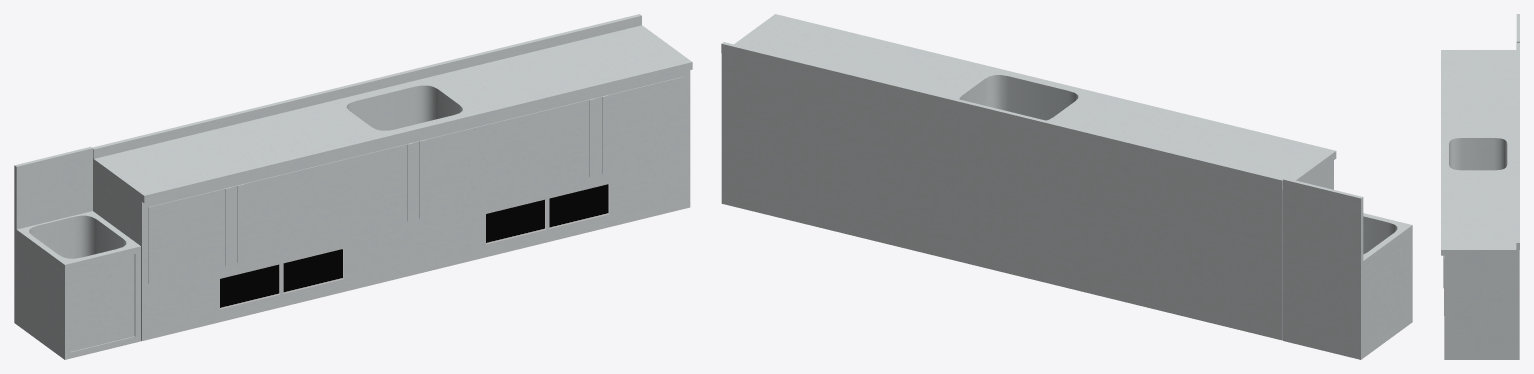
The model's file is SM_解剖房_桌子_01.fbx.
The picture shows the model from 3 angles, left to right: view 1: azimuth 30°, elevation 25°; view 2: azimuth 150°, elevation 25°; view 3: azimuth 270°, elevation 25°; orthographic projection. The views are drawn at different scales.
Parts seen in each view (by area): view 1: SM_解剖房_桌子_01; view 2: SM_解剖房_桌子_01; view 3: SM_解剖房_桌子_01.
Boxes of the visible parts, bbox=[...] form: SM_解剖房_桌子_01: bbox=[14, 14, 692, 359]; SM_解剖房_桌子_01: bbox=[721, 14, 1412, 359]; SM_解剖房_桌子_01: bbox=[1441, 14, 1519, 359].
Size of the model in its own units: 3442 by 830 by 503.
